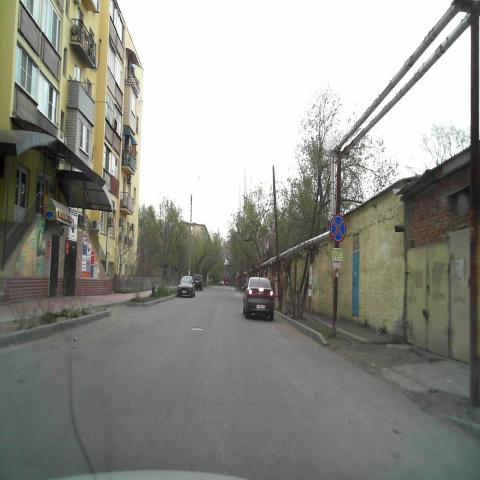3_27: (329, 214, 347, 245)
